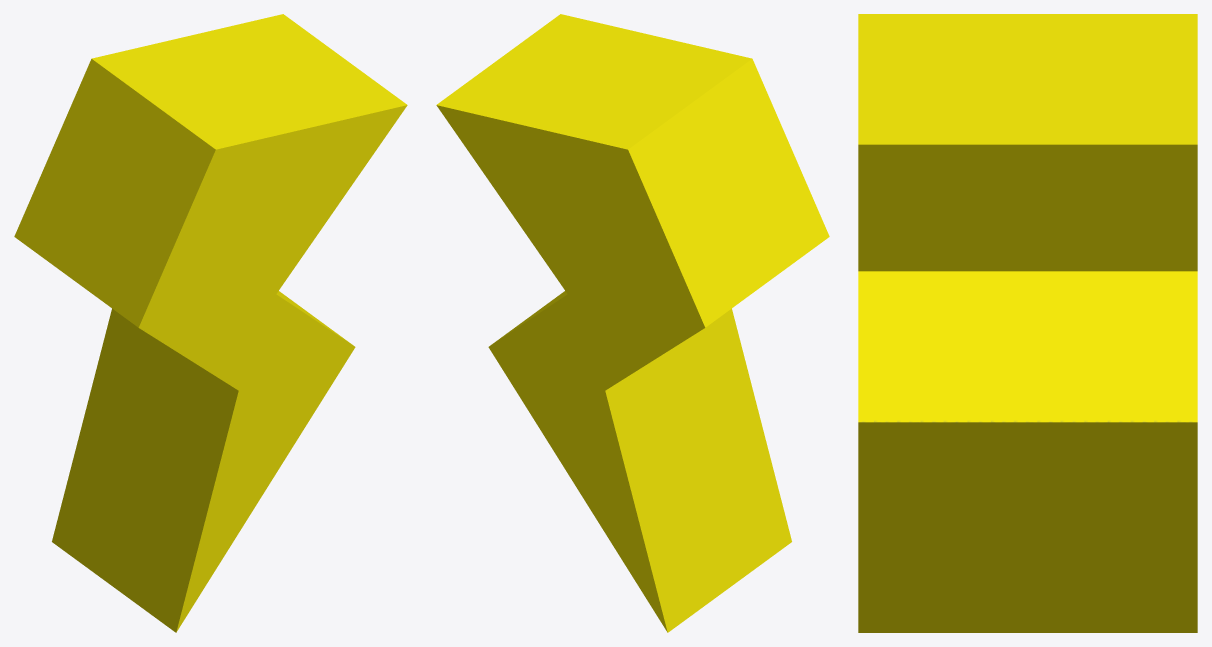
File: Bolt.fbx
3 views of the same model, side by side, from view 1: azimuth 30°, elevation 25°; view 2: azimuth 150°, elevation 25°; view 3: azimuth 270°, elevation 25° (orthographic). The views are drawn at different scales.
Visible parts, largest first — view 1: Node #0; view 2: Node #0; view 3: Node #0.
Boxes of the visible parts, x1=… form: Node #0: x1=14, y1=14, x2=407, y2=632; Node #0: x1=436, y1=14, x2=829, y2=632; Node #0: x1=858, y1=14, x2=1197, y2=632.
Bounding box in the file's own units: 0.1249 × 0.21 × 0.1.
Materials: 1 (1 with a texture image).
